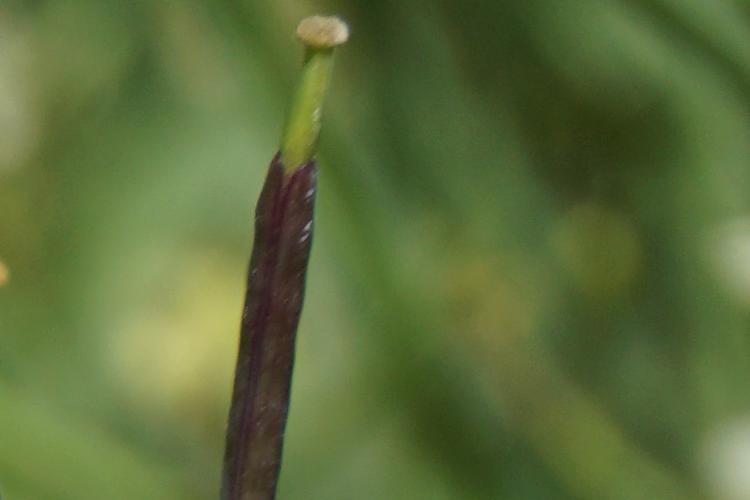pod: (185, 16, 341, 500)
